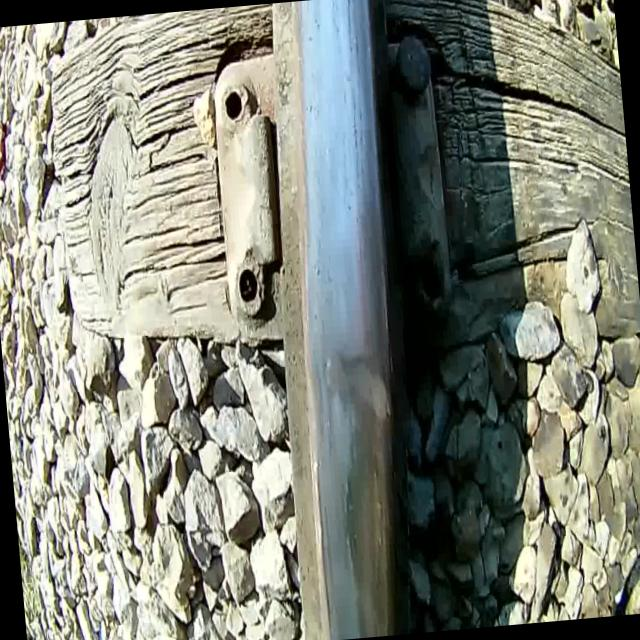Squats: (318, 338, 414, 639)
